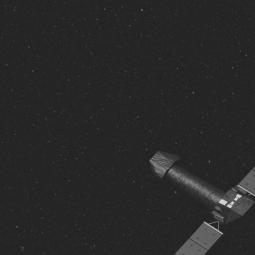xmm_newton: (149, 146, 255, 255)
